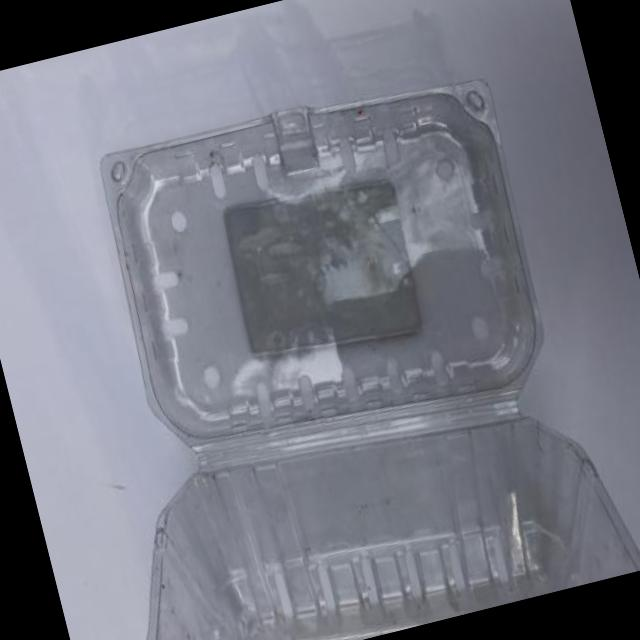Trash: (20, 46, 640, 640)
